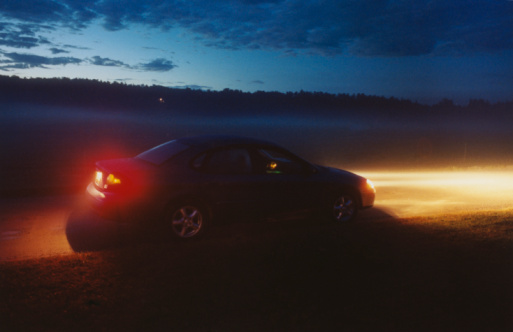car: (81, 130, 390, 248)
